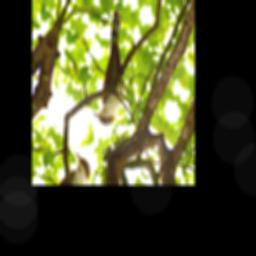Cuckoo: (75, 7, 151, 132)
